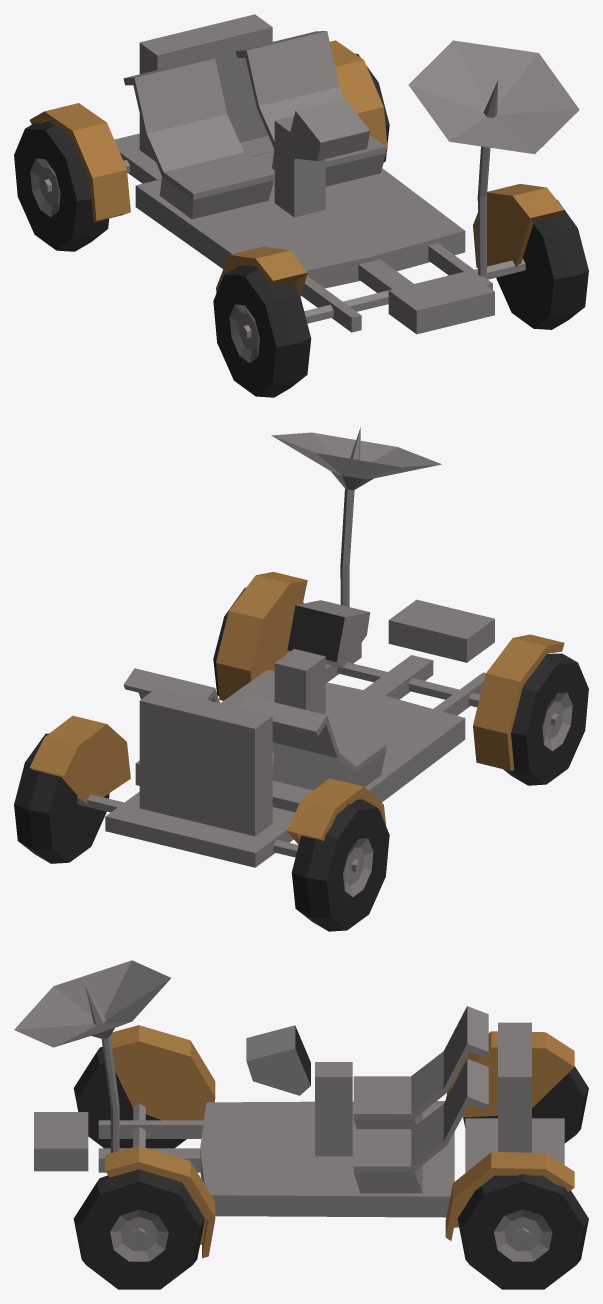
The model's file is space_lunar-rover.fbx.
3 views of the same model, one above another, from view 1: azimuth 30°, elevation 25°; view 2: azimuth 150°, elevation 25°; view 3: azimuth 270°, elevation 25° (orthographic). The views are drawn at different scales.
Parts seen in each view (by area): view 1: lunar_rover_wheel, lunar_rover_base_FR, lunar_rover_base_BR, lunar_rover_base_FL; view 2: lunar_rover_wheel, lunar_rover_base_BR, lunar_rover_base_FR, lunar_rover_base_BL; view 3: lunar_rover_wheel, lunar_rover_base_FL, lunar_rover_base_BL, lunar_rover_base_FR, lunar_rover_base_BR.
Boxes of the visible parts, <box> form: lunar_rover_wheel: <box>29,14,579,338</box>; lunar_rover_base_FR: <box>213,265,311,397</box>; lunar_rover_base_BR: <box>14,121,108,251</box>; lunar_rover_base_FL: <box>496,199,588,329</box>; lunar_rover_wheel: <box>29,427,564,872</box>; lunar_rover_base_BR: <box>291,799,389,931</box>; lunar_rover_base_FR: <box>503,653,588,785</box>; lunar_rover_base_BL: <box>14,733,109,863</box>; lunar_rover_wheel: <box>14,960,574,1258</box>; lunar_rover_base_FL: <box>73,1169,204,1289</box>; lunar_rover_base_BL: <box>457,1173,588,1289</box>; lunar_rover_base_FR: <box>73,1046,186,1148</box>; lunar_rover_base_BR: <box>463,1066,588,1143</box>.
Bounding box in the file's own units: 122 × 106 × 200.
